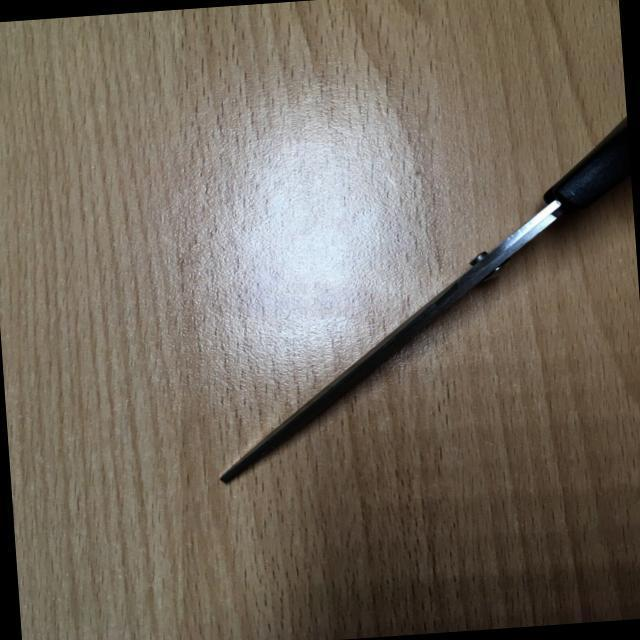scissors: (189, 89, 640, 491)
